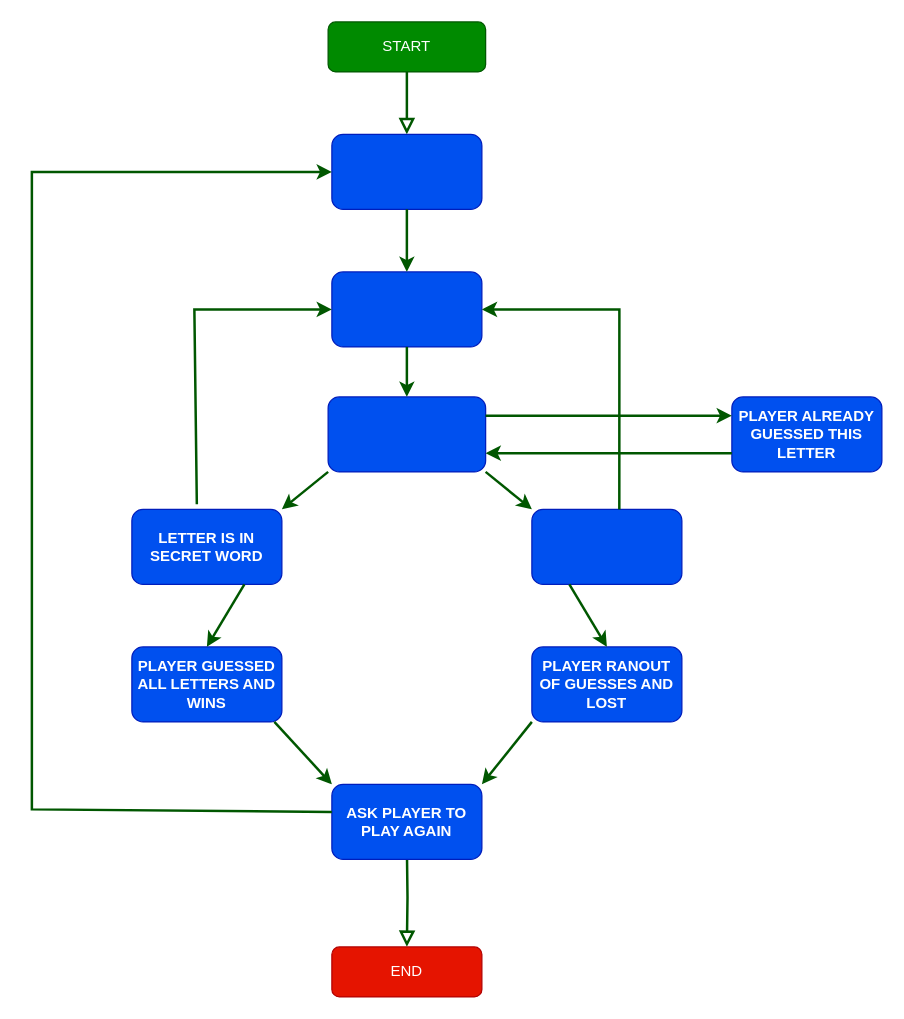
Image size: 904x1019. Some labels were removed from this diagram. Each missing label, with the centre of its shape:
ASK A PLAYER TO GUESS A LETTER: (x=406, y=434)
COME UP WITH A SECRET WORD: (x=406, y=171)
LETTER IS NOT IN SECRET WORD: (x=606, y=546)
SHOW DRAWING AND BLANKS TO PLAYER: (x=406, y=309)
